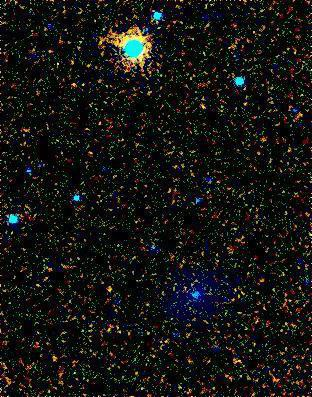star: (96, 274, 126, 304)
